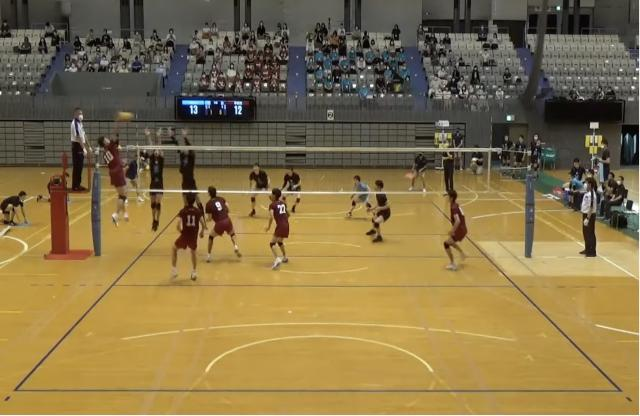spike: (96, 108, 135, 230)
